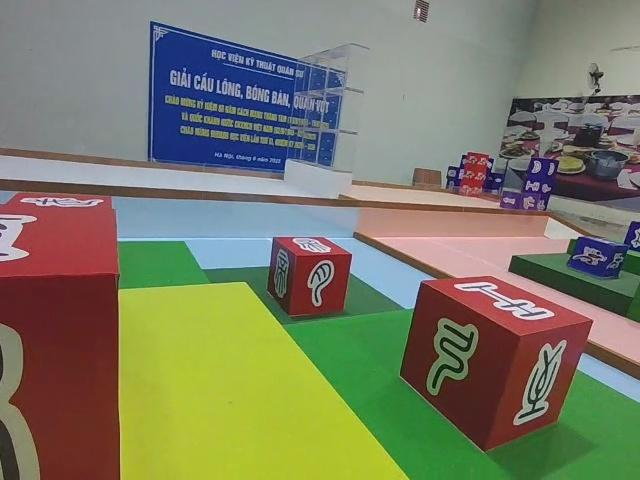R2 Fake: (398, 273, 596, 452), (264, 232, 355, 319)
